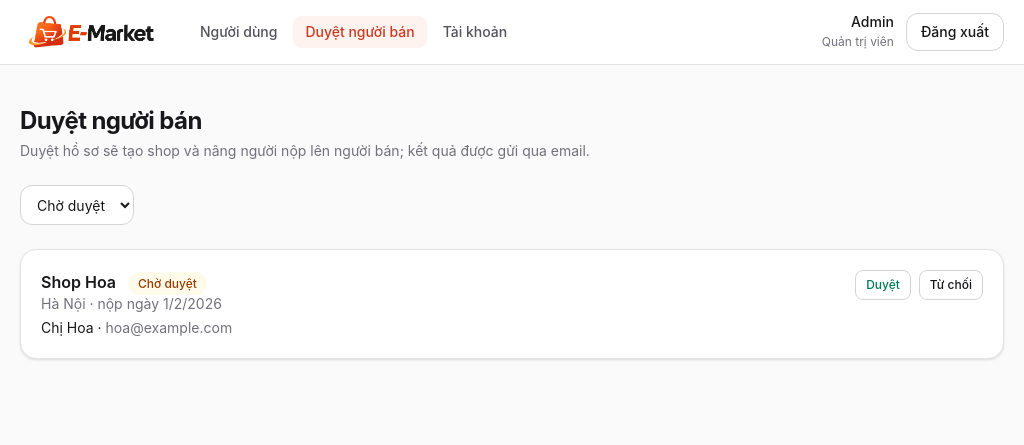
Test: Admin duyệt người bán › từ chối cần lý do hợp lệ rồi gửi lý do lên API
The width and height of the screenshot is (1024, 445).
Click the button with aria-label "Từ chối hồ sơ Shop Hoa".
click(951, 285)  # box [919,270,983,300]
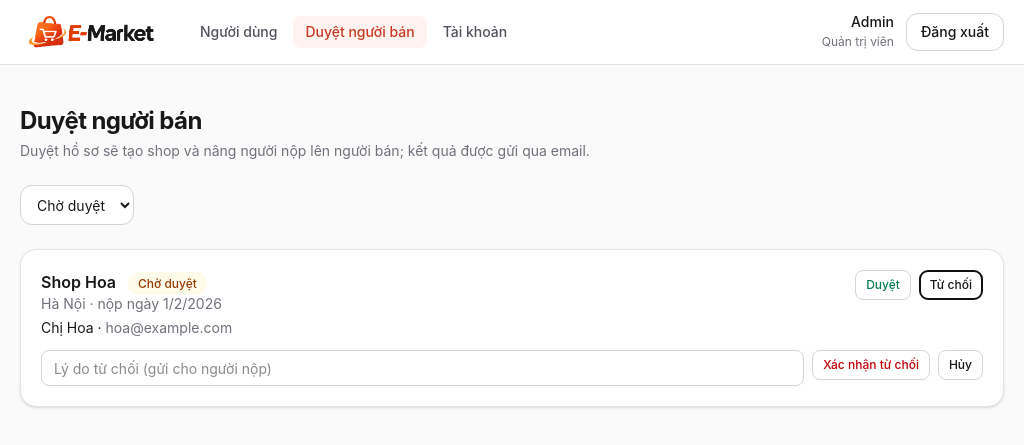
Click the button "Xác nhận từ chối".
click(871, 365)  # box [812,350,930,380]
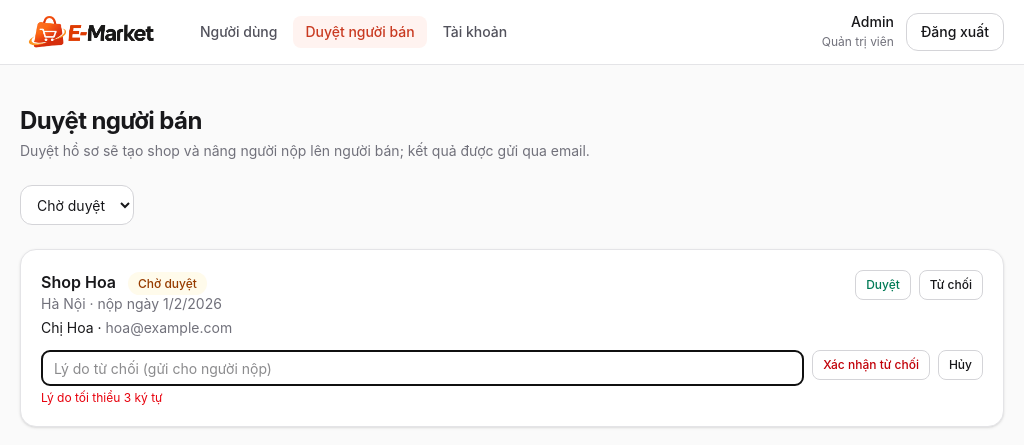
Expected: the text "Lý do tối thiểu 3 ký tự" is shown, [41,390,162,405]
Type "Tên shop vi phạm" into the field labelled "Lý do từ chối".
click(423, 368); type("Tên shop vi phạm")  # box [41,350,804,386]
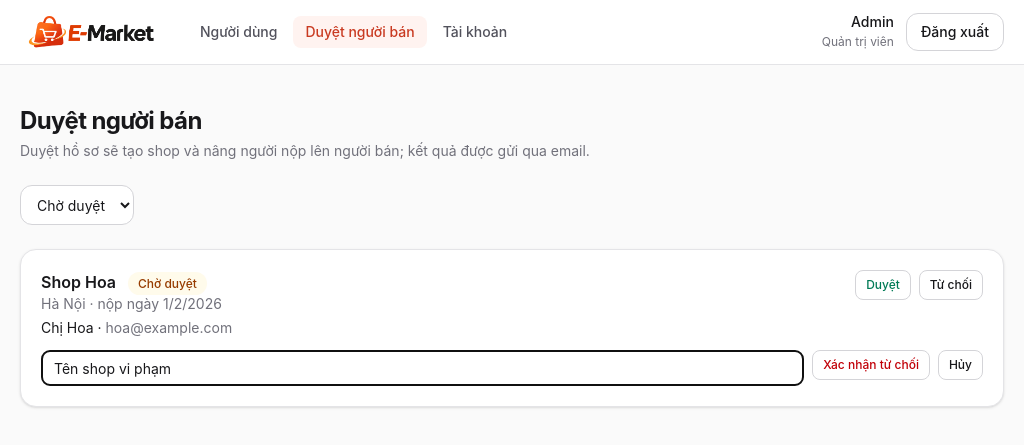
Click the button "Xác nhận từ chối".
click(871, 365)  # box [812,350,930,380]
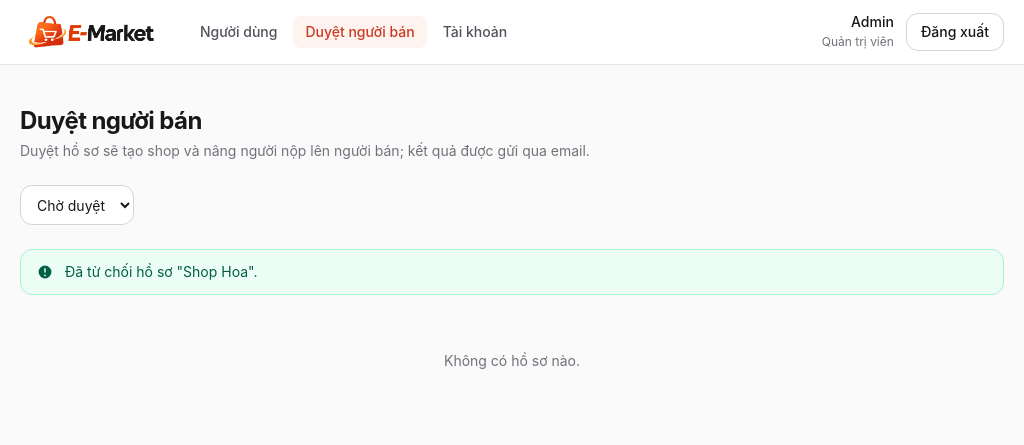
Expected: the text "Đã từ chối hồ sơ \"Shop Hoa\"." is shown, [65,262,258,282]
